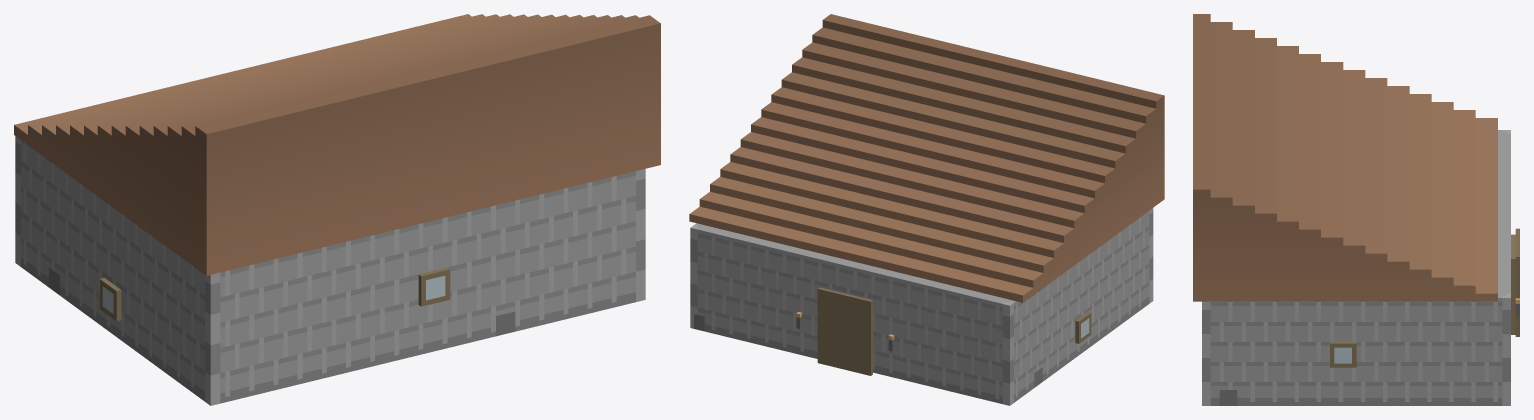
Rendered from fundicion_02.glb.
The picture shows the model from 3 angles, left to right: view 1: azimuth 30°, elevation 25°; view 2: azimuth 150°, elevation 25°; view 3: azimuth 270°, elevation 25°; orthographic projection. The views are drawn at different scales.
Parts seen in each view (by area): view 1: fundicion_02; view 2: fundicion_02; view 3: fundicion_02.
Boxes of the visible parts, x1=… form: fundicion_02: x1=14, y1=14, x2=660, y2=405; fundicion_02: x1=689, y1=14, x2=1164, y2=405; fundicion_02: x1=1193, y1=14, x2=1519, y2=405.
Size of the model in its own units: 9.4 by 5.5 by 7.4.
